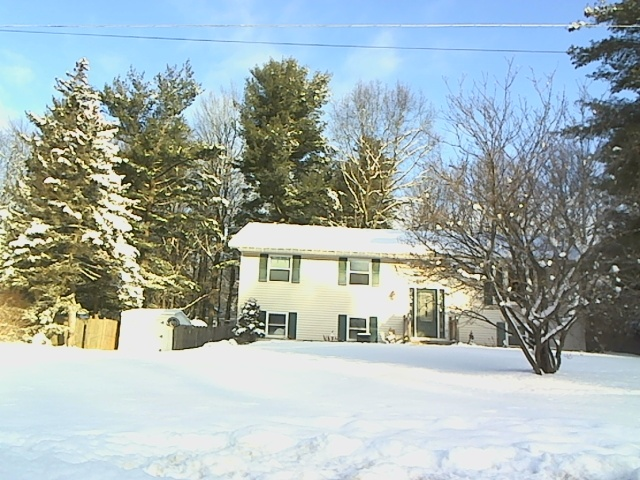Unploughed: (412, 293, 455, 422)
